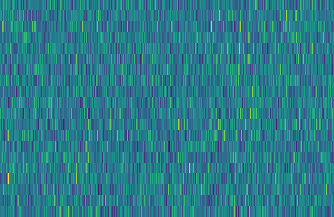signal: (230, 0, 247, 217)
